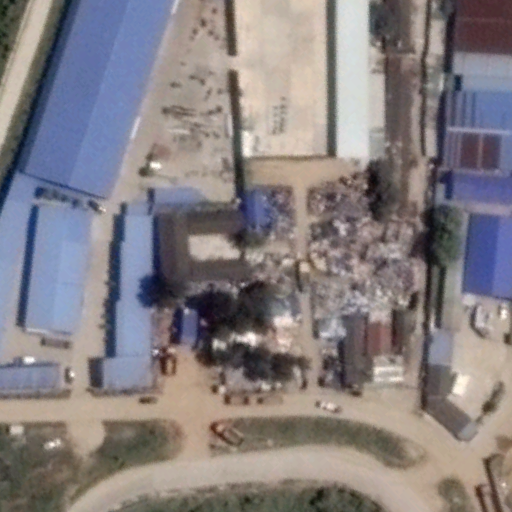msw: (260, 179, 417, 321)
